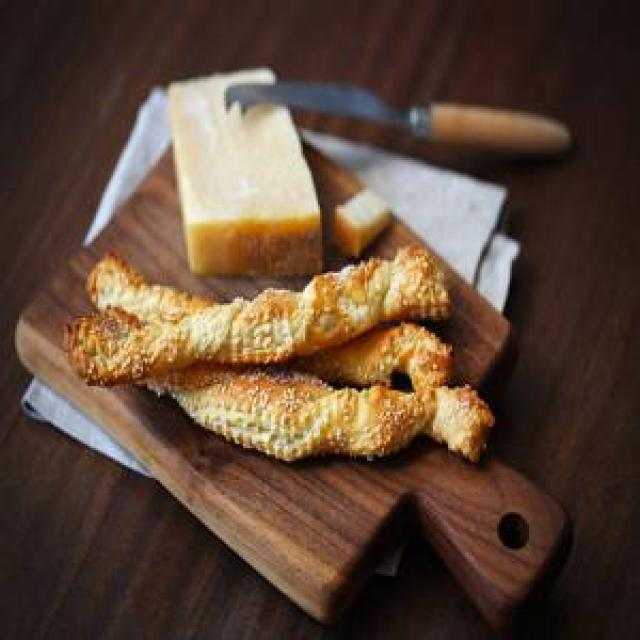knife: (220, 81, 568, 152)
